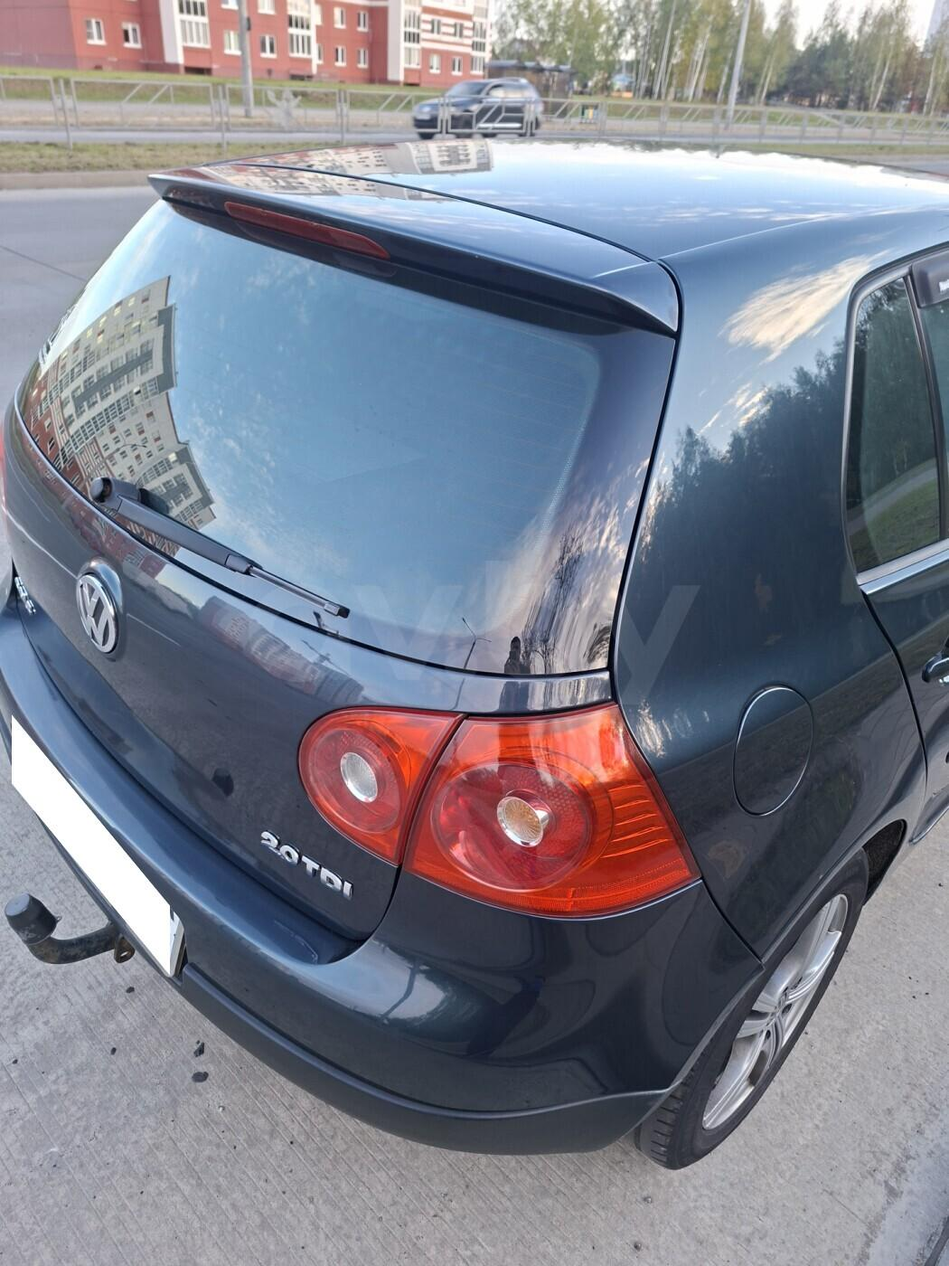Golf_2003-2009: (0, 145, 949, 1156)
